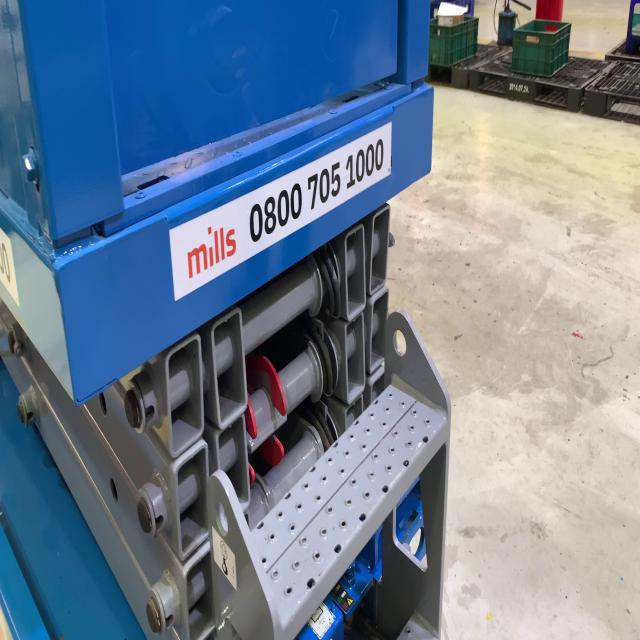Adesivo Longo: (167, 120, 393, 303)
